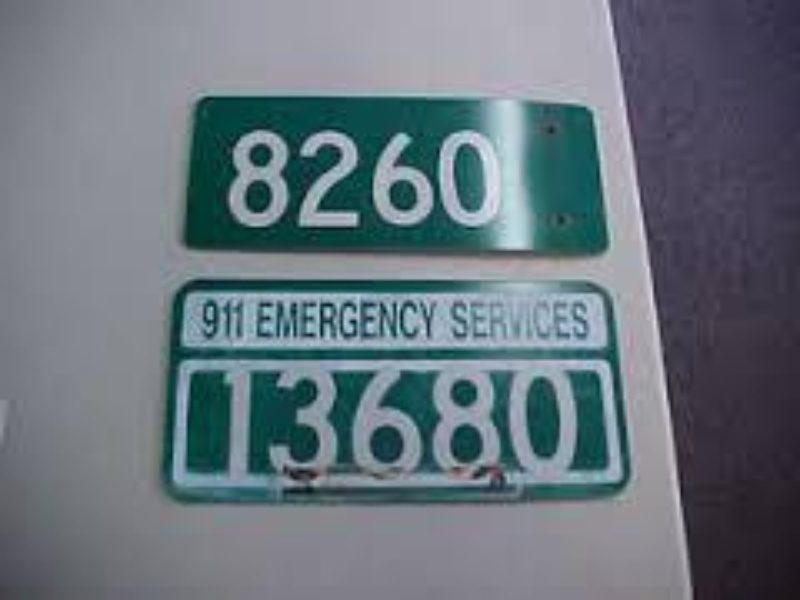text: (225, 364, 240, 484), (241, 364, 256, 484), (257, 364, 272, 484), (273, 364, 288, 484), (289, 364, 304, 484), (305, 364, 320, 484), (321, 364, 336, 484), (337, 364, 352, 484), (353, 364, 368, 484), (369, 364, 384, 484), (385, 364, 400, 484), (401, 364, 416, 484), (417, 364, 432, 484), (433, 364, 448, 484), (449, 364, 464, 484), (465, 364, 480, 484), (481, 364, 496, 484), (497, 364, 512, 484), (513, 364, 528, 484), (529, 364, 544, 484), (545, 364, 560, 484), (561, 364, 576, 484), (241, 124, 256, 231), (257, 124, 272, 231), (273, 124, 288, 231), (289, 124, 304, 231), (305, 124, 320, 231), (321, 124, 336, 231), (337, 124, 352, 231), (353, 124, 368, 231), (369, 124, 384, 231), (385, 124, 400, 231), (401, 124, 416, 231), (417, 124, 432, 231), (433, 124, 448, 231), (449, 124, 464, 231), (465, 124, 480, 231), (481, 124, 496, 231), (227, 124, 240, 231), (217, 364, 224, 484), (449, 294, 464, 344), (465, 294, 480, 344), (481, 294, 496, 344), (497, 294, 512, 344), (513, 294, 528, 344), (529, 294, 544, 344), (545, 294, 560, 344), (561, 294, 576, 344), (497, 124, 504, 231), (257, 297, 272, 344), (273, 297, 288, 344), (289, 297, 304, 344), (305, 297, 320, 344), (321, 297, 336, 344), (337, 297, 352, 344), (353, 297, 368, 344), (369, 297, 384, 344), (385, 297, 400, 344), (401, 297, 416, 344), (417, 297, 432, 344), (577, 294, 591, 344), (209, 297, 224, 341), (225, 297, 240, 341), (197, 297, 208, 341), (577, 364, 581, 484), (241, 297, 251, 341), (433, 297, 441, 344), (254, 297, 256, 344), (447, 294, 448, 344)
